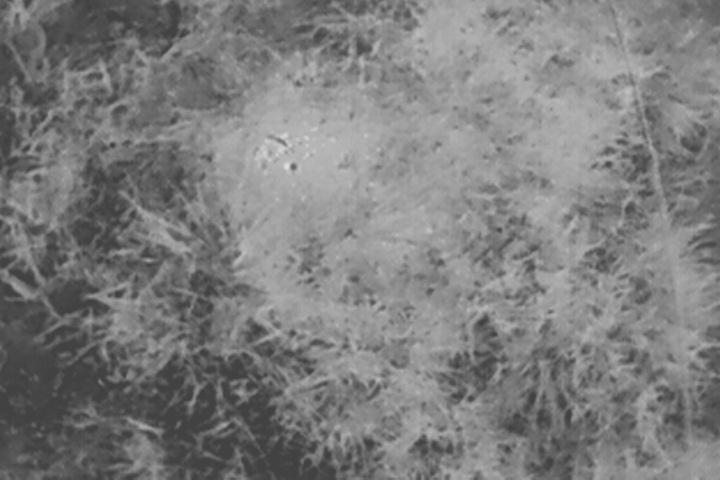landmine: (250, 126, 383, 218)
